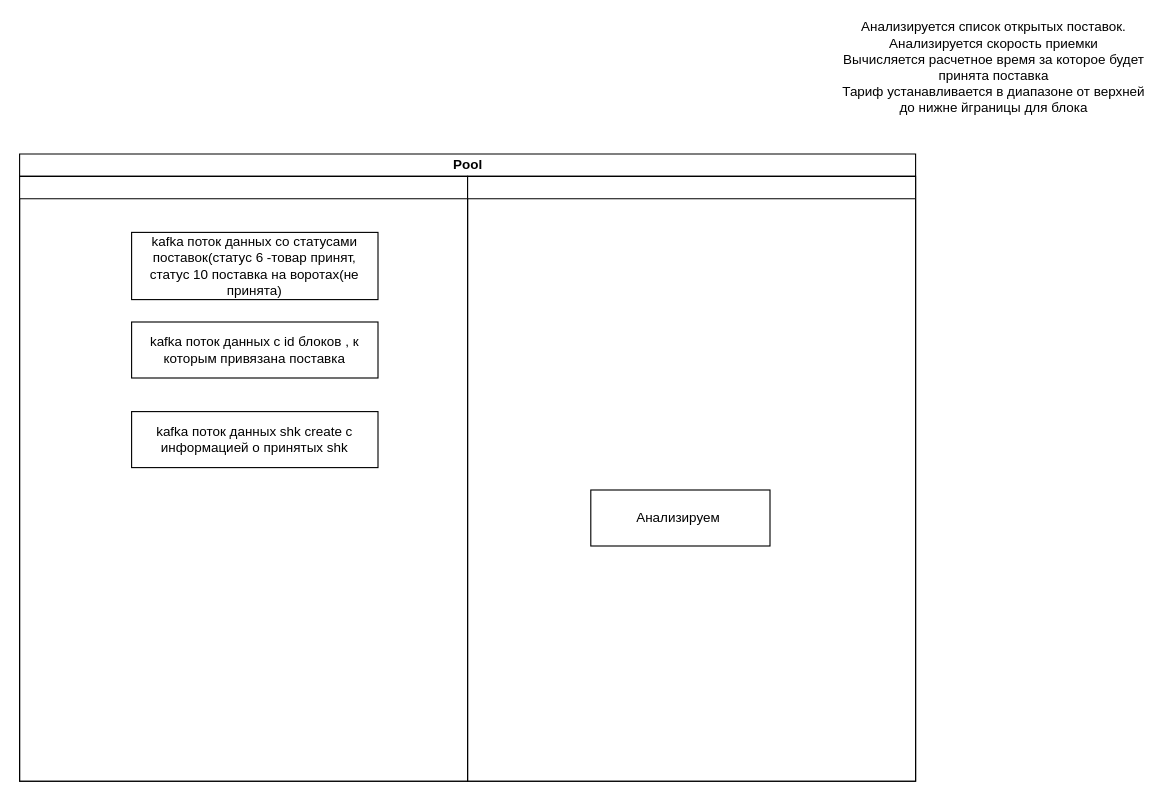
Image size: 1170x801. Some labels were removed from this diagram. The box of each missing label's shape, as (x1, y1, x2, y2) in pixels:
Складские сервисы: (18, 175, 468, 781)
Тарификатор: (466, 175, 916, 781)
